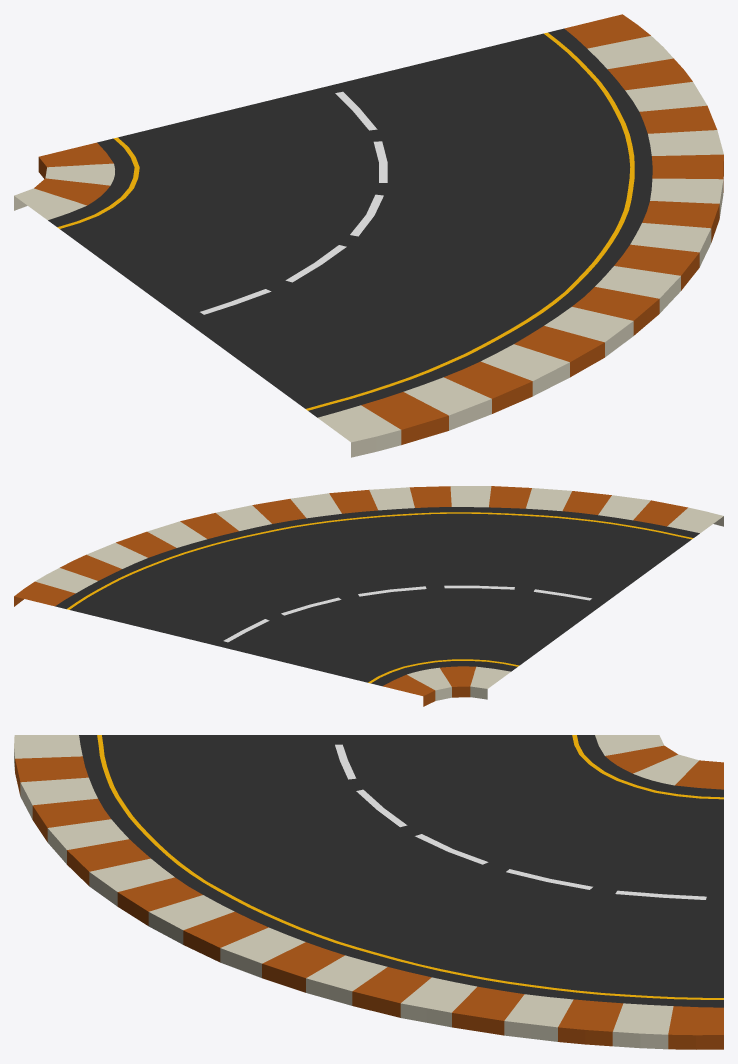
File: SM_Road_03.fbx
3 views of the same model, one above another, from view 1: azimuth 30°, elevation 25°; view 2: azimuth 150°, elevation 25°; view 3: azimuth 270°, elevation 25° (orthographic). The views are drawn at different scales.
Parts seen in each view (by area): view 1: SM_Road_03_LOD0; view 2: SM_Road_03_LOD0; view 3: SM_Road_03_LOD0.
Boxes of the visible parts, left/top/right/bottom form: SM_Road_03_LOD0: left=14, top=14, right=723, bottom=457; SM_Road_03_LOD0: left=14, top=486, right=723, bottom=706; SM_Road_03_LOD0: left=14, top=735, right=723, bottom=1049.
Size of the model in its own units: 1101 by 1101 by 25.
Materials: 1 (1 with a texture image).
